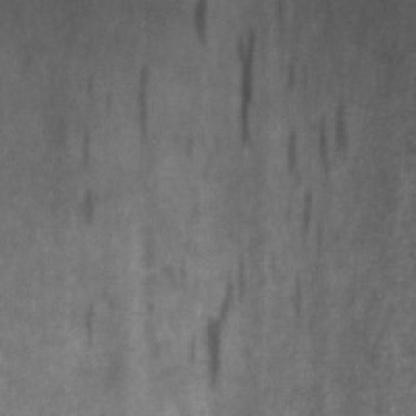inclusion: (279, 96, 362, 266), (170, 262, 250, 389), (221, 19, 268, 156), (125, 54, 162, 154), (181, 0, 212, 52), (68, 114, 94, 173), (75, 293, 100, 352), (72, 181, 96, 227)
